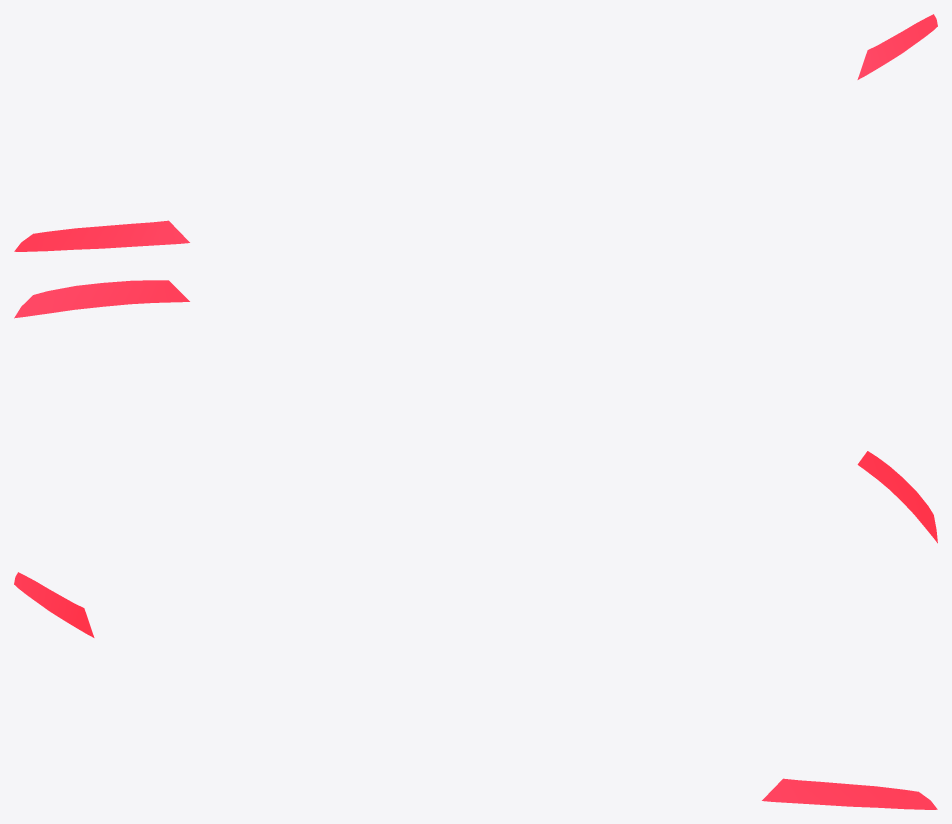
The model's file is rare_light.glb.
3 renders of one model, top to bottom at view 1: azimuth 30°, elevation 25°; view 2: azimuth 150°, elevation 25°; view 3: azimuth 330°, elevation 25°, orthographic.
Parts seen in each view (by area): view 1: rare_light; view 2: rare_light; view 3: rare_light.
Boxes of the visible parts, x1,y1,x2,y2 form: rare_light: [14, 14, 937, 251]; rare_light: [14, 280, 937, 543]; rare_light: [14, 572, 937, 809].
Size of the model in its own units: 1.45 by 0.0518 by 0.1302.
